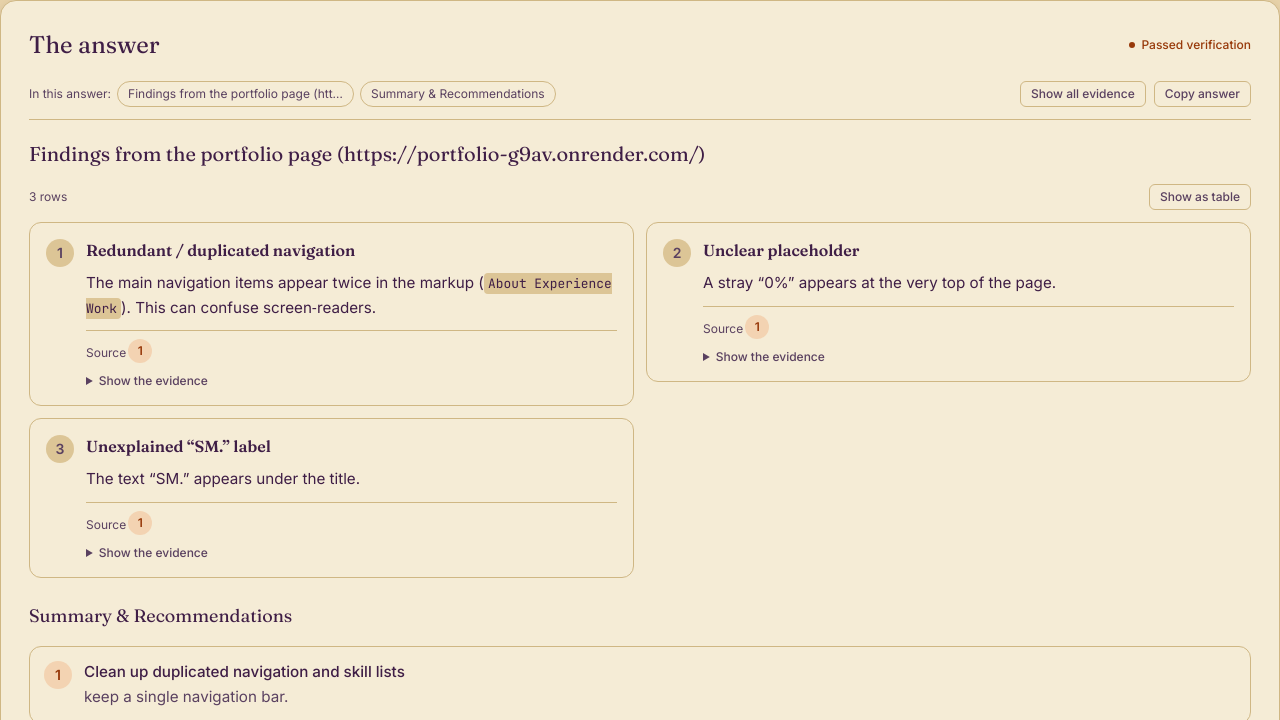
AnswerPaper — copying › copies the answer as clean text with the sources as numbers, and says it did
Click the button "Copy answer". click: (1202, 94)
box: x1=1154 y1=81 x2=1251 y2=107
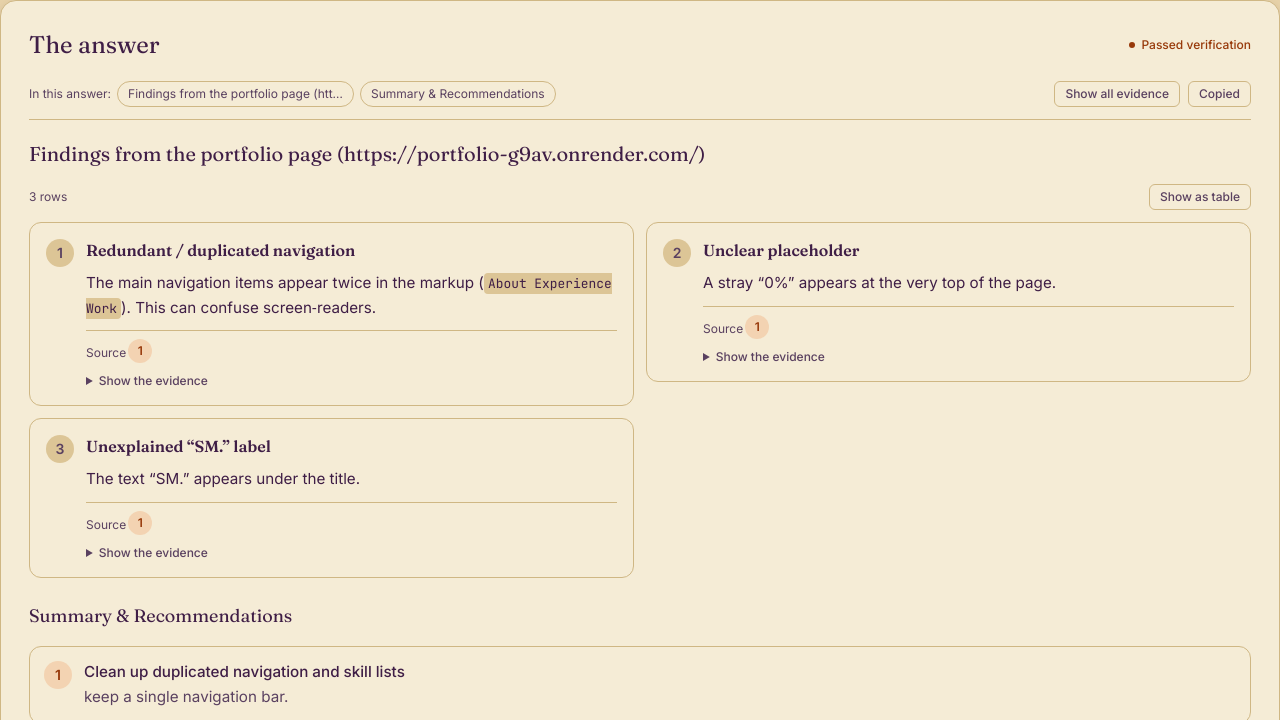
expect the button "Copied" is shown: met, box x1=1188 y1=81 x2=1251 y2=107
